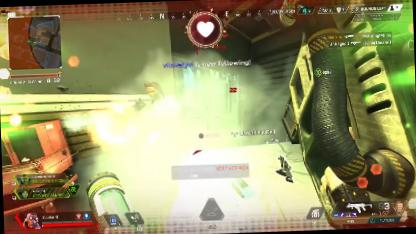Target: (134, 80, 170, 118)
